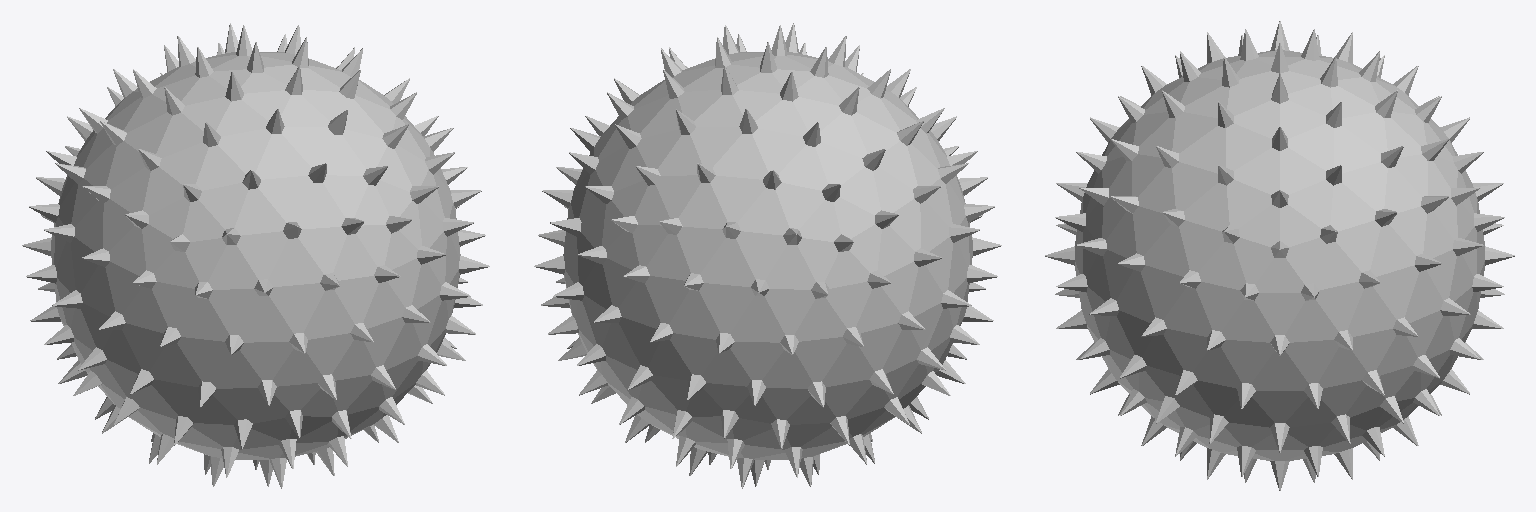
Rendered from spikyball.obj.
3 renders of one model, left to right at view 1: azimuth 30°, elevation 25°; view 2: azimuth 150°, elevation 25°; view 3: azimuth 270°, elevation 25°, orthographic.
Parts seen in each view (by area): view 1: Icosphere; view 2: Icosphere; view 3: Icosphere.
Part boxes in pixels (x1,y1,x2,y2): Icosphere: (22,23,489,488); Icosphere: (534,23,1001,488); Icosphere: (1045,21,1514,490).
Bounding box in the file's own units: 2.27 × 2.28 × 2.27.